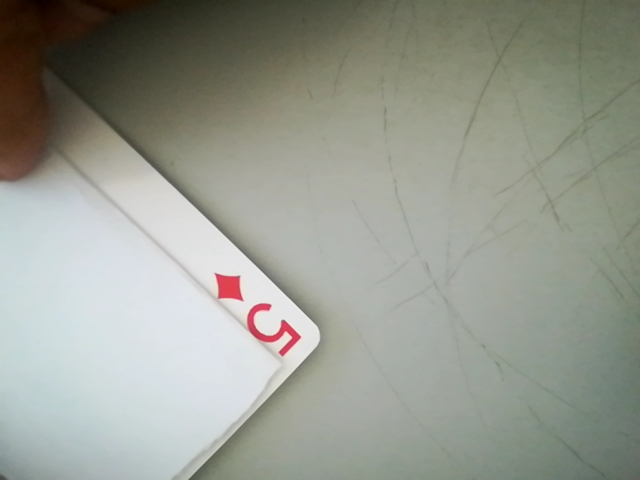fk 5: (203, 264, 320, 366)
